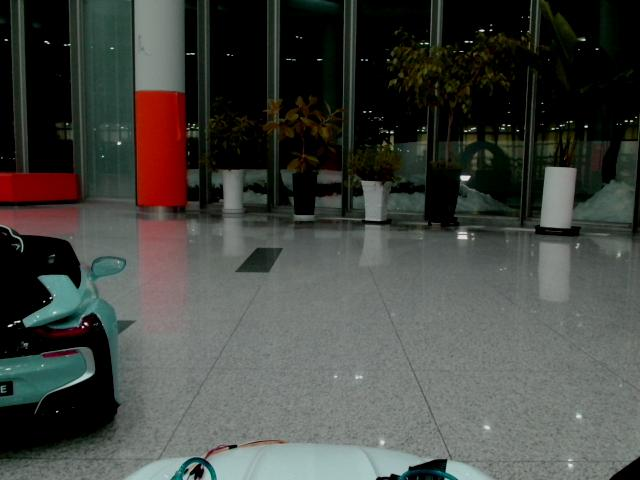car: (1, 225, 126, 452)
